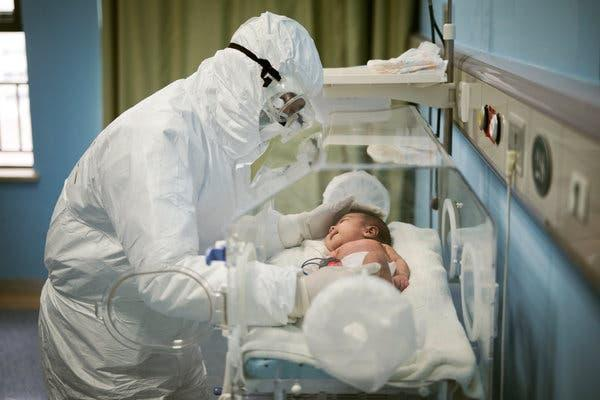Gloves: (294, 262, 380, 310), (300, 194, 378, 235)
Goggles: (261, 82, 317, 135)
